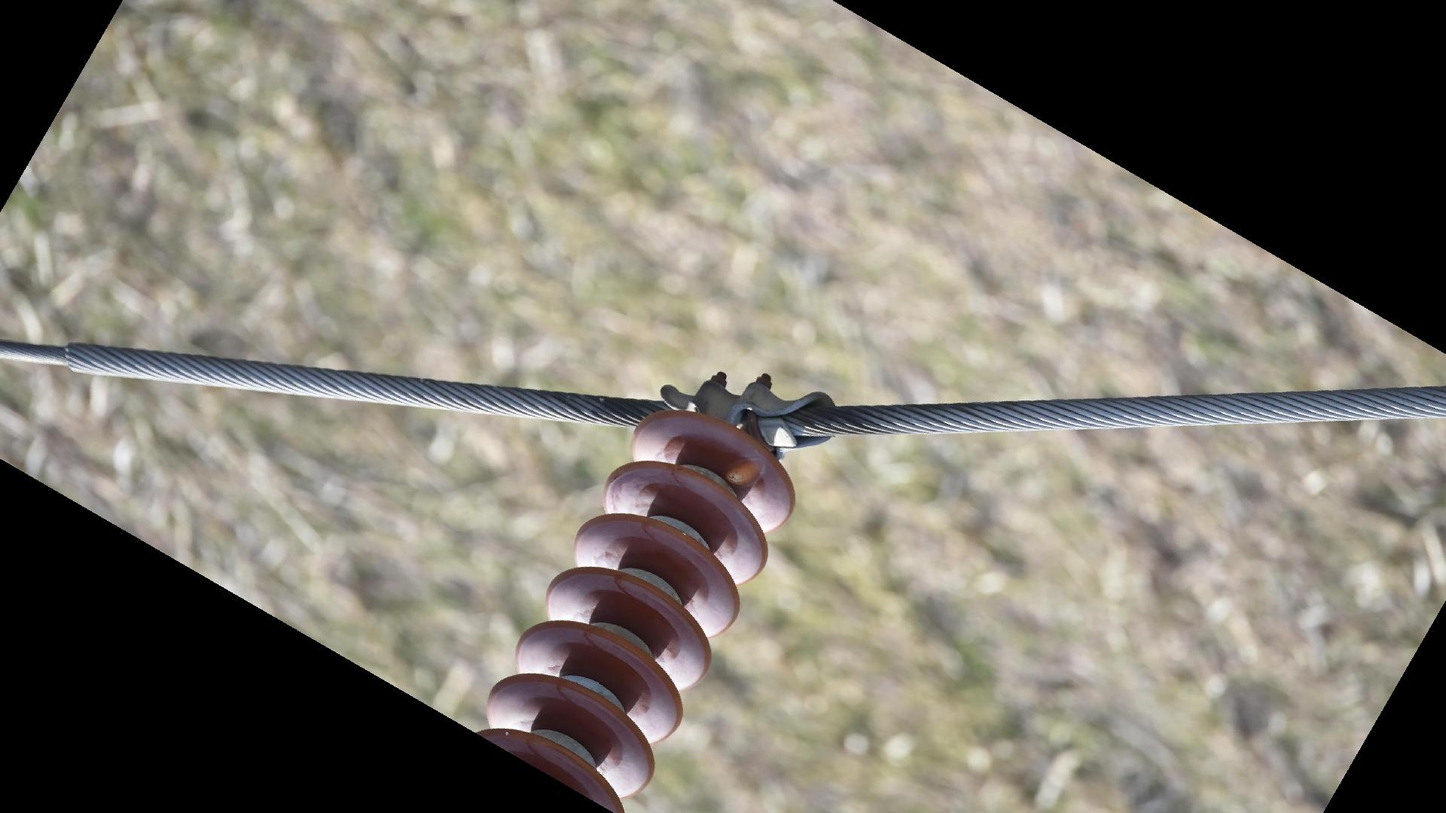insulator: (470, 404, 806, 813)
insulator_flashover: (725, 455, 767, 487)
